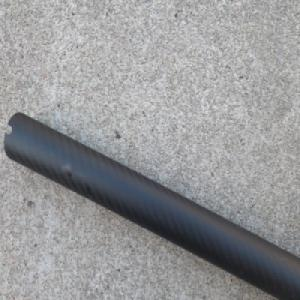LuggagePart: (2, 110, 300, 300)
